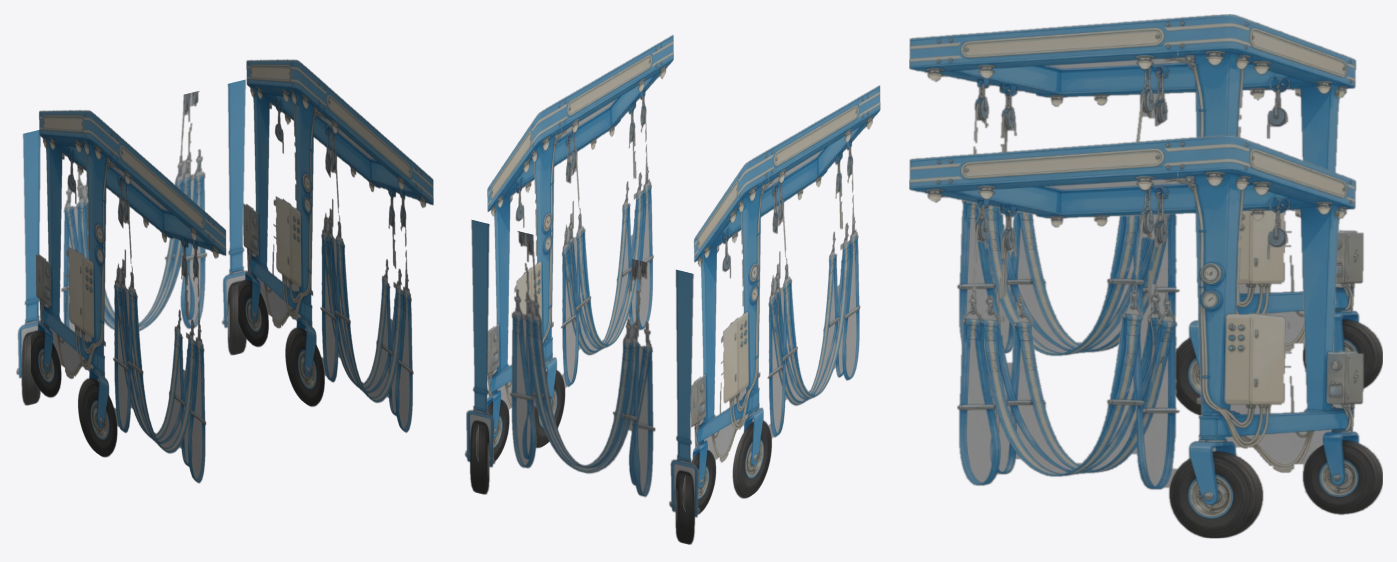
Rendered from travel_lift.glb.
The picture shows the model from 3 angles, left to right: view 1: azimuth 30°, elevation 25°; view 2: azimuth 150°, elevation 25°; view 3: azimuth 270°, elevation 25°; orthographic projection. The views are drawn at different scales.
Visible parts, largest first — view 1: travel_lift; view 2: travel_lift; view 3: travel_lift.
Boxes of the visible parts, bbox=[...] form: travel_lift: bbox=[16, 59, 433, 483]; travel_lift: bbox=[464, 35, 880, 544]; travel_lift: bbox=[909, 14, 1382, 538].
Bounding box in the file's own units: 6.99 × 9.39 × 9.99.
Materials: 1 (1 with a texture image).
